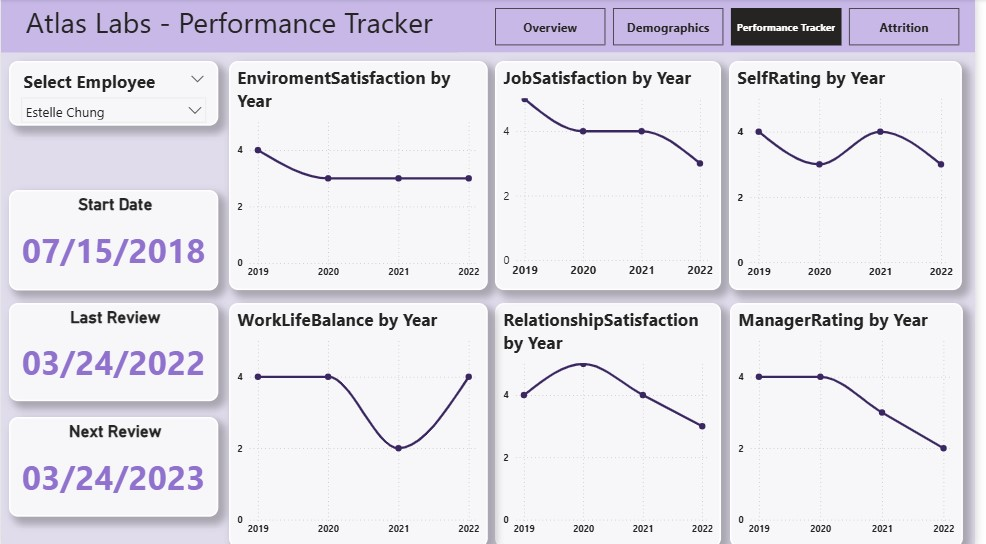

The dashboard page shown, as its layout file describes it:
{"tool":"powerbi","page":{"name":"Performance Tracker","canvas":[1280,720],"ordinal":2},"visuals":[{"type":"slicer","fields":{"Values":["DimEmployee.full Name"]},"box":[11,81.2,275.3,85.3],"z":0},{"type":"card","title":"Start Date","fields":{"Values":["DimEmployee.HireDate"]},"box":[11,250.5,275.3,132.1],"z":1000},{"type":"card","title":"Last Review","fields":{"Values":["_Measure.LastReviewDate"]},"box":[11,399.1,275.3,129.4],"z":2000},{"type":"card","title":"Next Review","fields":{"Values":["_Measure.NextReviewDate"]},"box":[11,549.2,275.3,130.8],"z":3000},{"type":"lineChart","fields":{"Y":["_Measure.EnviromentSatisfaction"],"Category":["DimDate.Date.Variation.Date Hierarchy.Year"]},"box":[300,81.2,340,301.4],"z":4000},{"type":"lineChart","fields":{"Category":["DimDate.Date.Variation.Date Hierarchy.Year"],"Y":["_Measure.RelationshipSatisfaction"]},"box":[649.6,399.1,297.3,320.7],"z":5000},{"type":"lineChart","fields":{"Category":["DimDate.Date.Variation.Date Hierarchy.Year"],"Y":["_Measure.WorkLifeBalance"]},"box":[300,399.1,340,320.7],"z":6000},{"type":"lineChart","fields":{"Category":["DimDate.Date.Variation.Date Hierarchy.Year"],"Y":["_Measure.JobSatisfaction"]},"box":[649.6,81.2,297.3,301.4],"z":7000},{"type":"lineChart","fields":{"Category":["DimDate.Date.Variation.Date Hierarchy.Year"],"Y":["_Measure.SelfRating"]},"box":[956.6,81.2,305.5,301.4],"z":8000},{"type":"lineChart","fields":{"Category":["DimDate.Date.Variation.Date Hierarchy.Year"],"Y":["_Measure.ManagerRating"]},"box":[957.9,399.1,305.5,320.7],"z":9000},{"type":"shape","box":[0,0,1280,70.2],"z":10000},{"type":"pageNavigator","box":[649.6,12.4,613.8,49.5],"z":11000},{"type":"textbox","box":[0,0,600.1,70.2],"z":12000}]}

Visuals, with their boxes in screenshot pixels (x1, y1, x2, y2), scaled from the page's 1280x720 canvas onto the 986x544 screenshot:
slicer - DimEmployee.full Name: {"left": 8, "top": 61, "right": 221, "bottom": 126}
"Start Date" card: {"left": 8, "top": 189, "right": 221, "bottom": 289}
"Last Review" card: {"left": 8, "top": 302, "right": 221, "bottom": 399}
"Next Review" card: {"left": 8, "top": 415, "right": 221, "bottom": 514}
lineChart - _Measure.EnviromentSatisfaction x DimDate.Date.Variation.Date Hierarchy.Year: {"left": 231, "top": 61, "right": 493, "bottom": 289}
lineChart - DimDate.Date.Variation.Date Hierarchy.Year x _Measure.RelationshipSatisfaction: {"left": 500, "top": 302, "right": 729, "bottom": 543}
lineChart - DimDate.Date.Variation.Date Hierarchy.Year x _Measure.WorkLifeBalance: {"left": 231, "top": 302, "right": 493, "bottom": 543}
lineChart - DimDate.Date.Variation.Date Hierarchy.Year x _Measure.JobSatisfaction: {"left": 500, "top": 61, "right": 729, "bottom": 289}
lineChart - DimDate.Date.Variation.Date Hierarchy.Year x _Measure.SelfRating: {"left": 737, "top": 61, "right": 972, "bottom": 289}
lineChart - DimDate.Date.Variation.Date Hierarchy.Year x _Measure.ManagerRating: {"left": 738, "top": 302, "right": 973, "bottom": 543}
shape: {"left": 0, "top": 0, "right": 985, "bottom": 53}
pageNavigator: {"left": 500, "top": 9, "right": 973, "bottom": 47}
textbox: {"left": 0, "top": 0, "right": 462, "bottom": 53}
